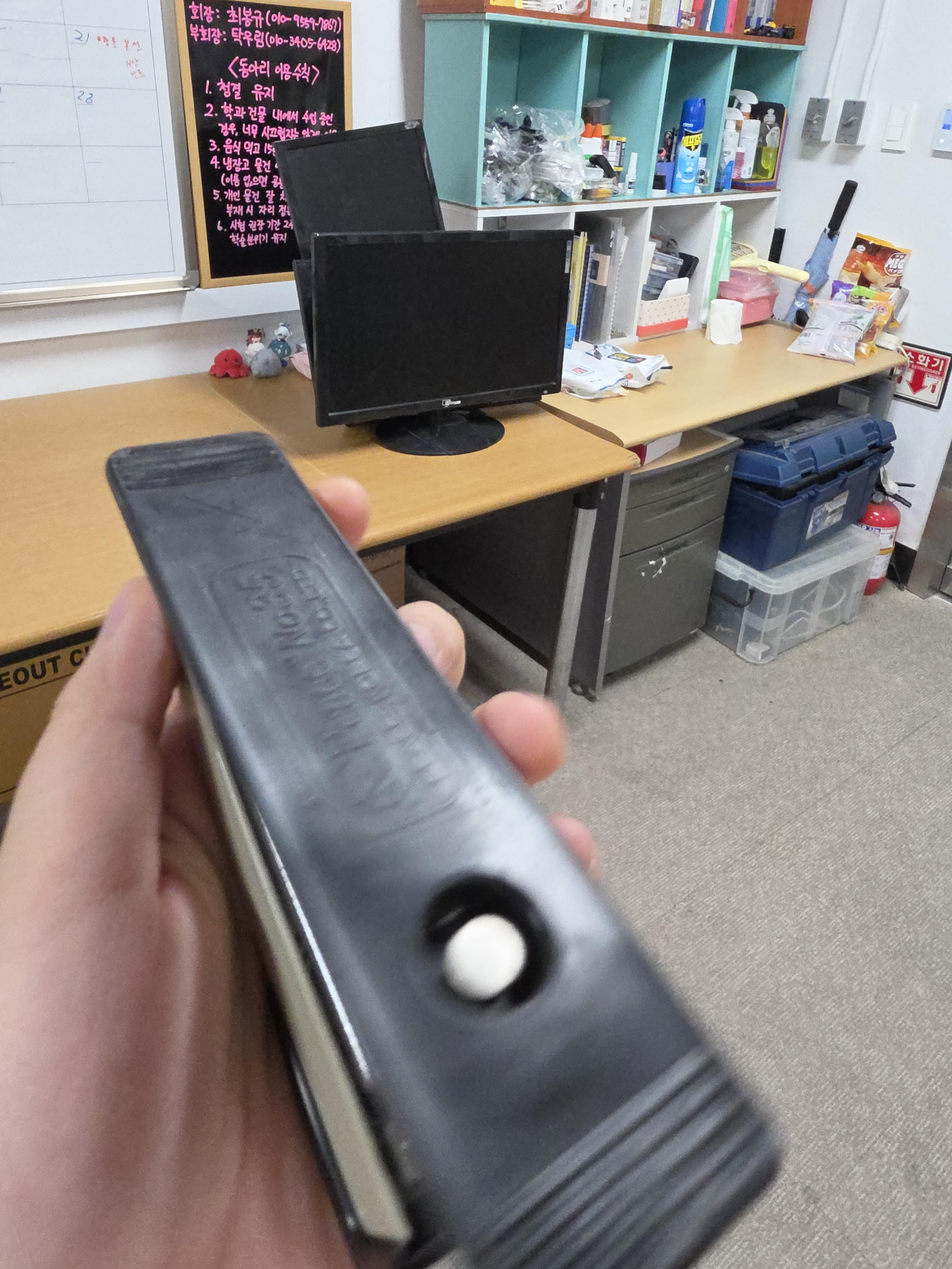stapler: (105, 431, 785, 1268)
tissue: (636, 277, 691, 338), (710, 298, 744, 346)
